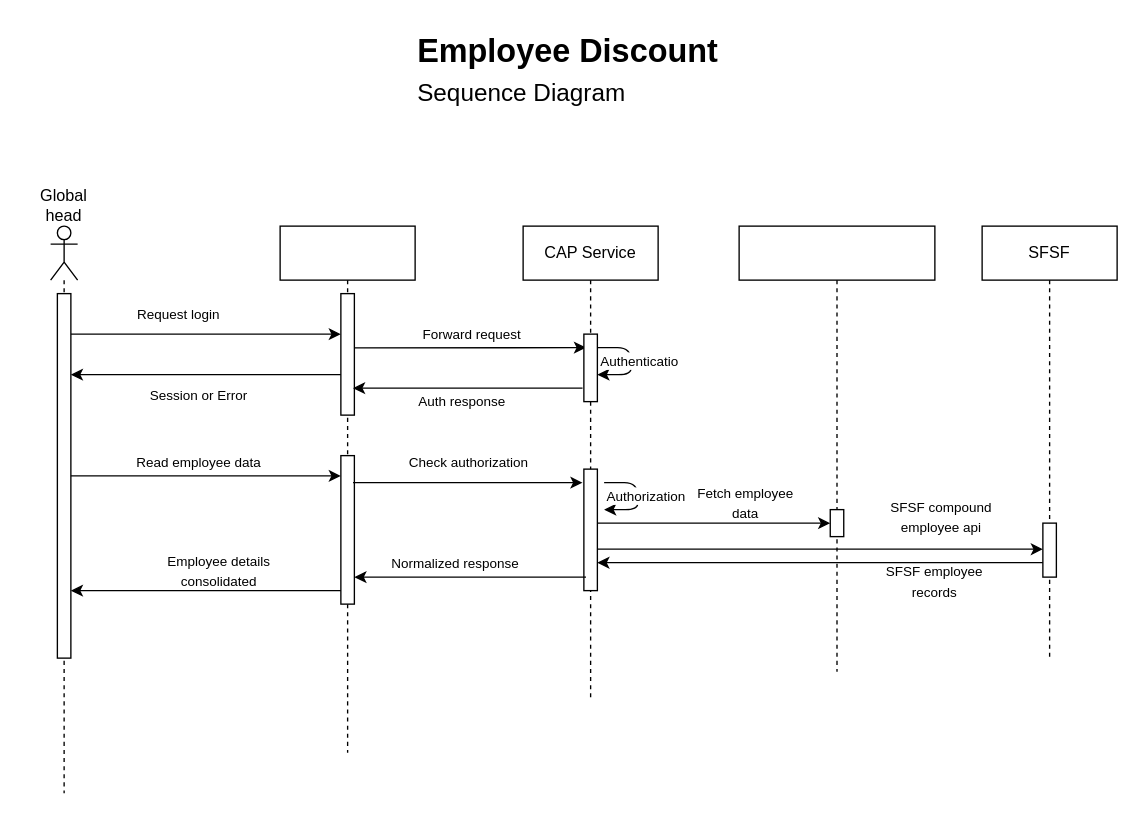
Image size: 1141x817. Some labels were removed from this diagram. The shapes that lost their labels are listed below. From the top down, each one's box as (x1, y1, x2, y2) in pixels, then its label:
(738, 225, 935, 672): HANA Cloud
(279, 225, 415, 753): App Router
